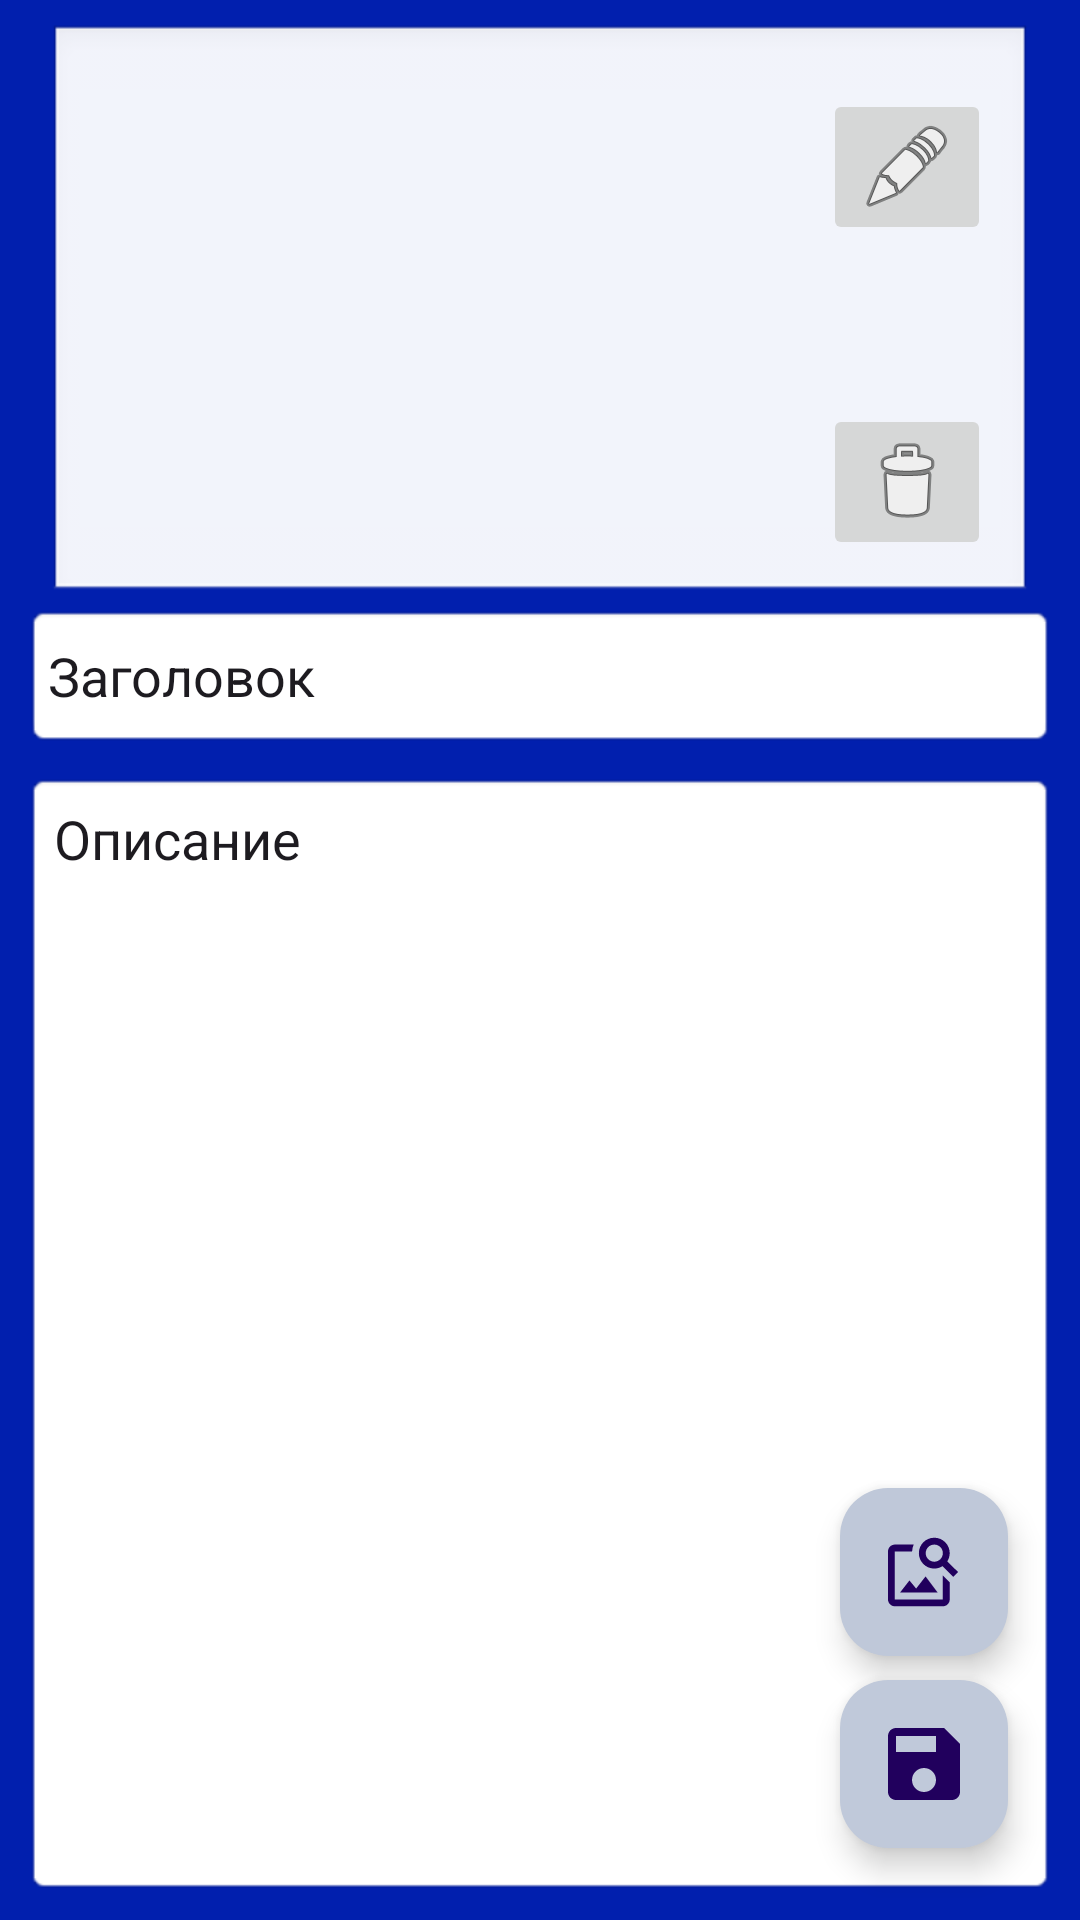

Named icons in this screenshot (1080w x 1920h) and their centers, (x=x, y=y):
delete: (x=907, y=482)
edit: (x=907, y=167)
save: (x=924, y=1764)
